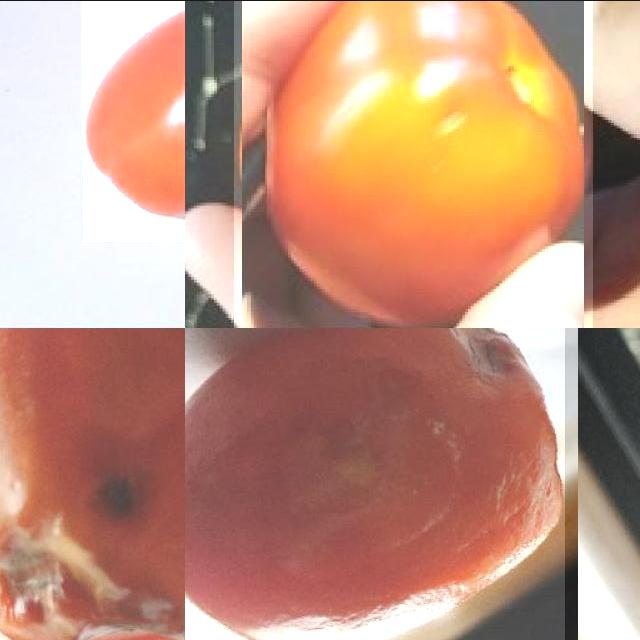tomato: (234, 1, 594, 328), (83, 1, 186, 242)
